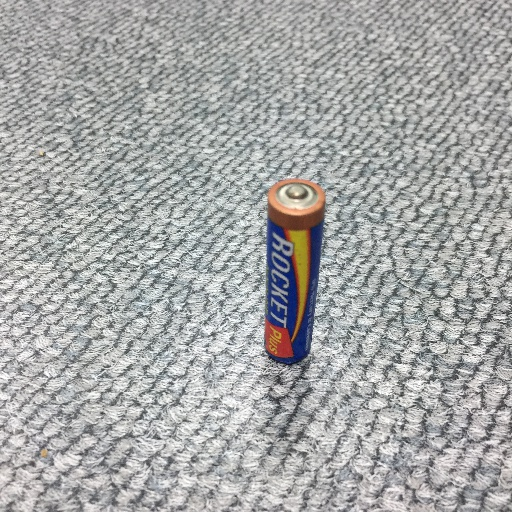Battery_0: (259, 171, 329, 368)
